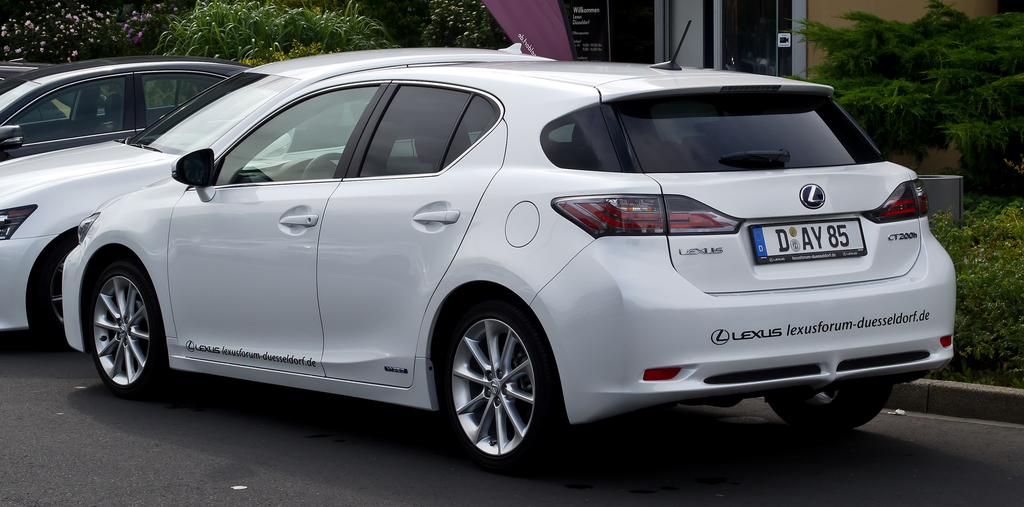Car: (0, 42, 561, 339), (0, 61, 246, 162), (0, 58, 21, 90)
